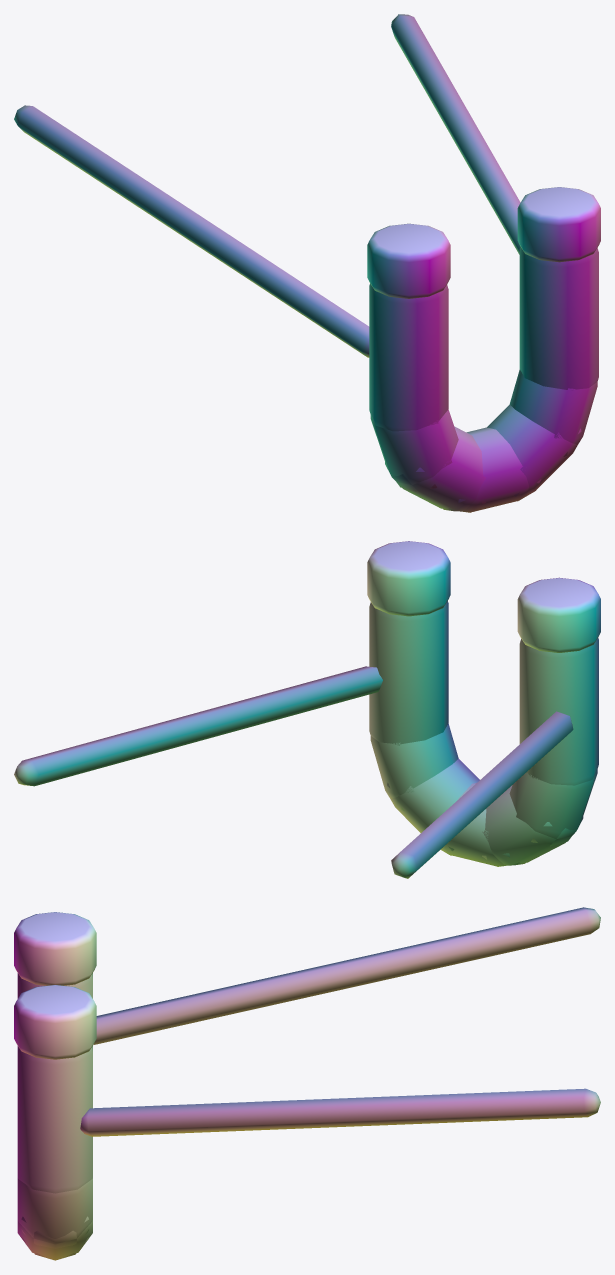
Rendered from acc_magnet.glb.
3 views of the same model, one above another, from view 1: azimuth 30°, elevation 25°; view 2: azimuth 150°, elevation 25°; view 3: azimuth 270°, elevation 25° (orthographic).
Visible parts, largest first — view 1: magnet; view 2: magnet; view 3: magnet.
Boxes of the visible parts, bbox=[...] form: magnet: bbox=[14, 14, 600, 512]; magnet: bbox=[14, 541, 600, 878]; magnet: bbox=[14, 907, 600, 1260].
Bounding box in the file's own units: 0.1277 × 0.0868 × 0.1634.
